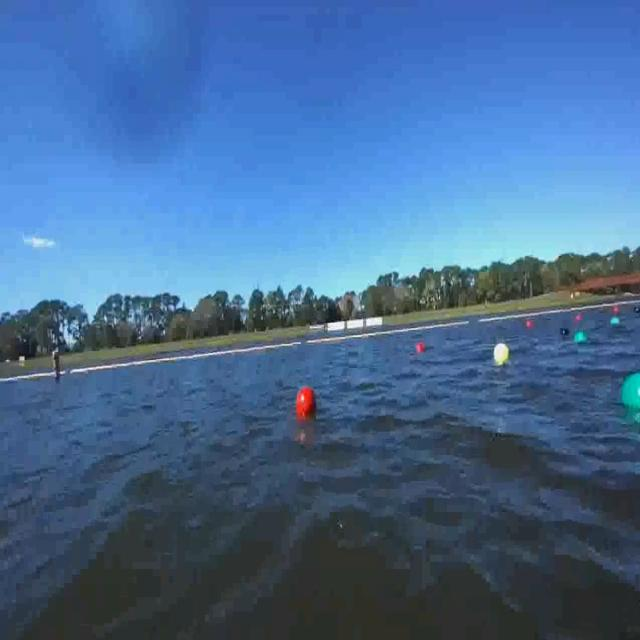black-buoy: (560, 325, 571, 337)
green-buoy: (620, 373, 640, 412), (573, 333, 587, 347), (610, 317, 620, 328)
red-buoy: (295, 389, 315, 418), (417, 343, 426, 354)
yellow-buoy: (493, 342, 510, 367)
